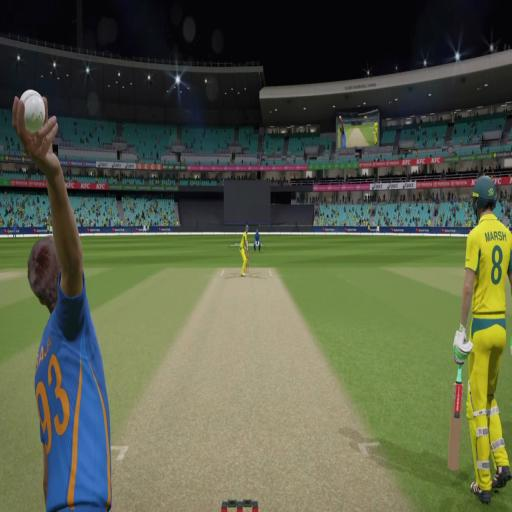ball: (20, 90, 45, 131)
